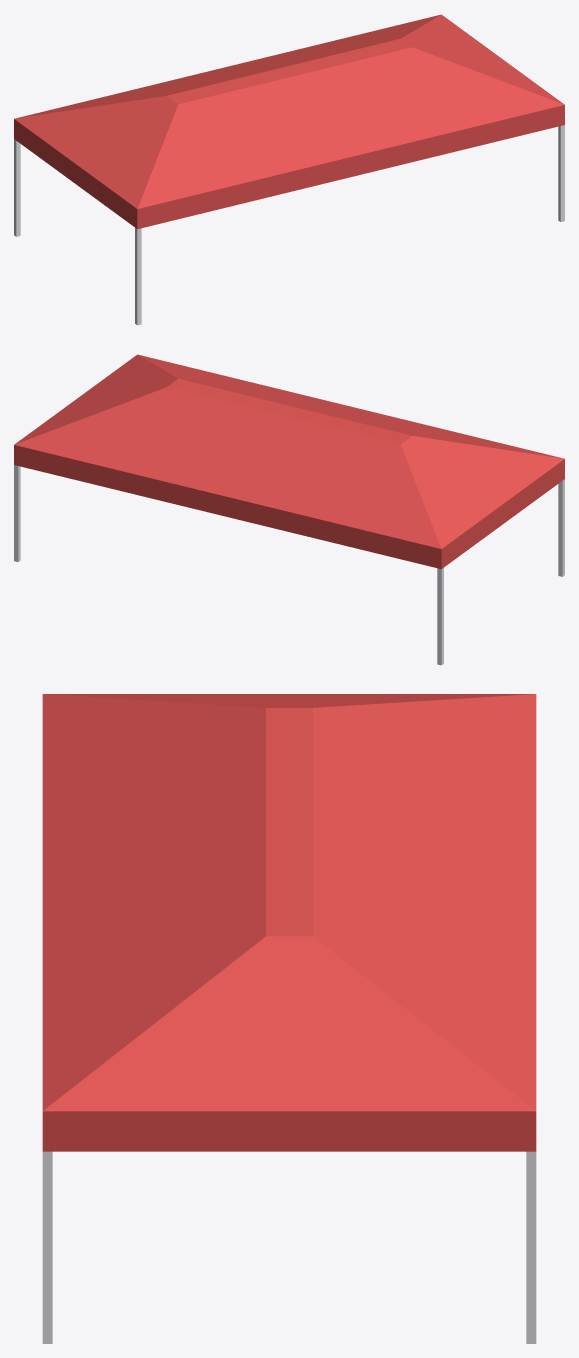
File: tentLong.glb
The picture shows the model from 3 angles, top to bottom: view 1: azimuth 30°, elevation 25°; view 2: azimuth 150°, elevation 25°; view 3: azimuth 270°, elevation 25°; orthographic projection. The views are drawn at different scales.
Visible parts, largest first — view 1: tentLong(Clone); view 2: tentLong(Clone); view 3: tentLong(Clone).
Boxes of the visible parts, left/top/right/bottom form: tentLong(Clone): left=14, top=14, right=564, bottom=325; tentLong(Clone): left=14, top=354, right=564, bottom=665; tentLong(Clone): left=42, top=694, right=536, bottom=1343.
Size of the model in its own units: 2 by 0.7 by 1.
